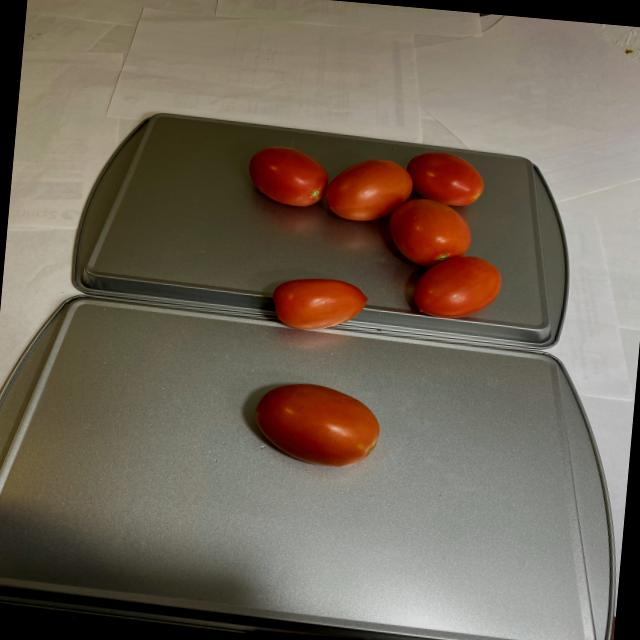tomato: (231, 134, 516, 346), (250, 377, 389, 472)
